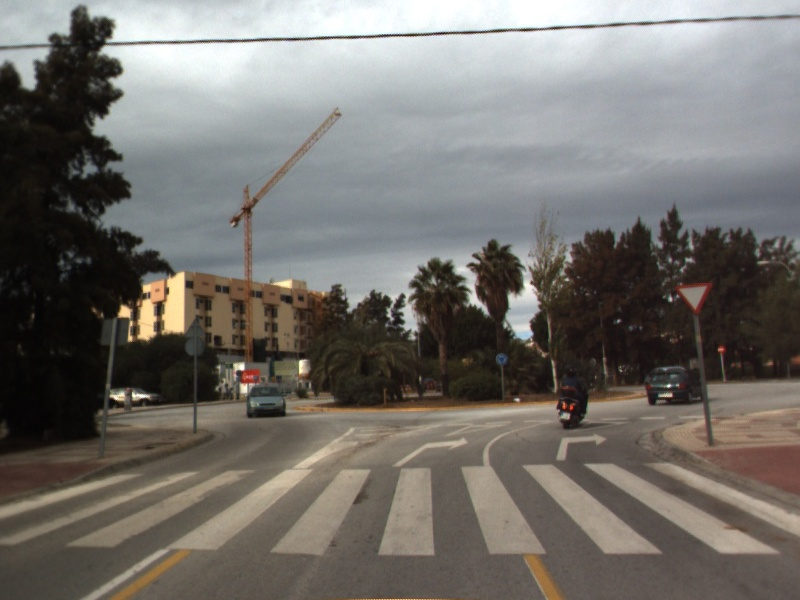RIGHT: (390, 435, 470, 469), (554, 431, 609, 463)
